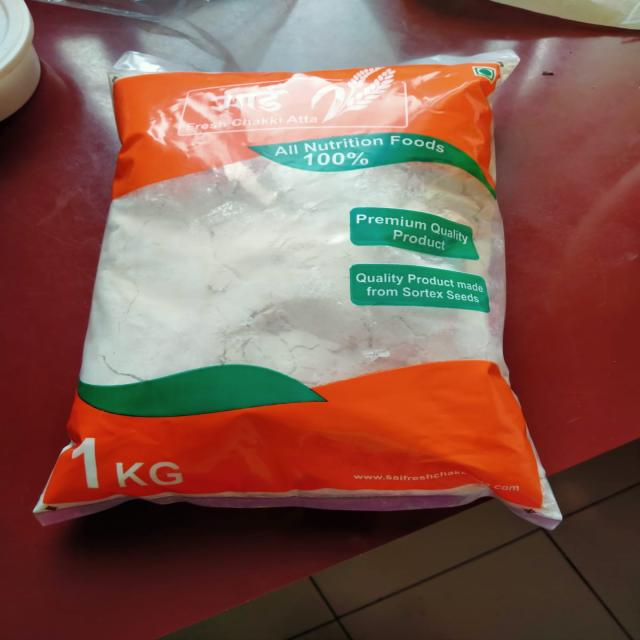Packet: (27, 50, 567, 532)
